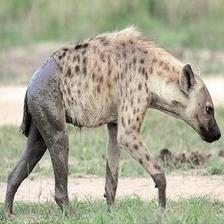hyena: (9, 23, 224, 216)
